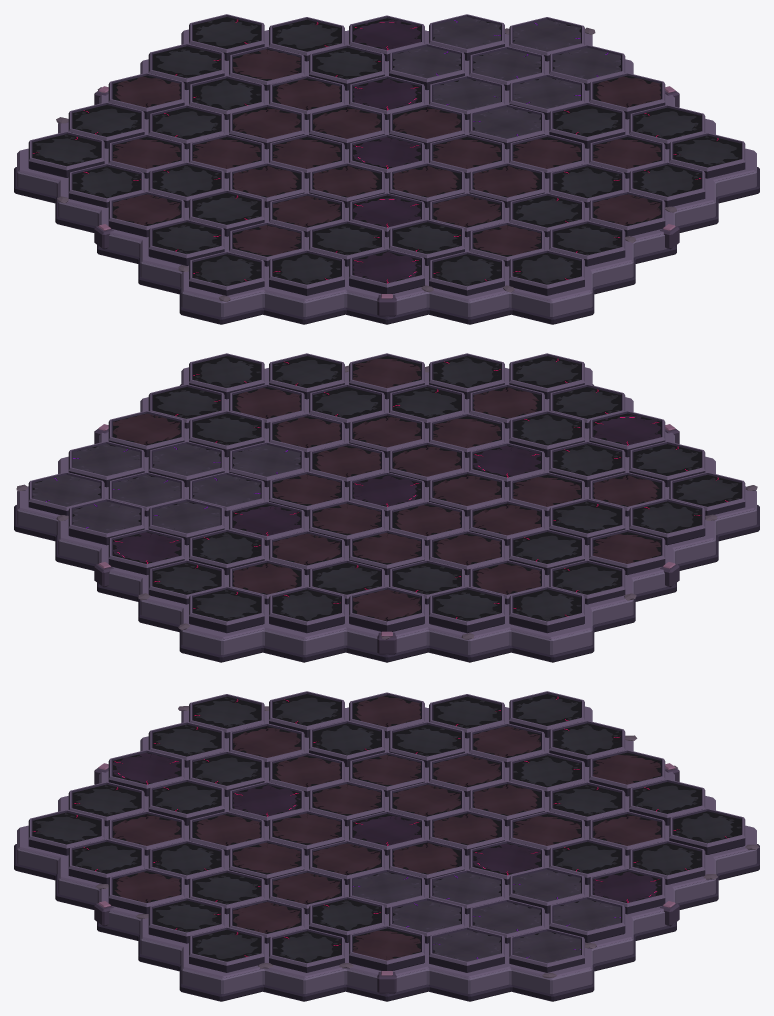
Rendered from Arena_Tabuleiro.glb.
3 views of the same model, one above another, from view 1: azimuth 30°, elevation 25°; view 2: azimuth 150°, elevation 25°; view 3: azimuth 270°, elevation 25° (orthographic).
Visible parts, largest first — view 1: Arena_Foundation, Hex_q-2_r-2, Hex_q-3_r-1, Hex_q+0_r-4, Hex_q-4_r+4, Hex_q-4_r+1, Hex_q-1_r-3, Hex_q-4_r+0, Hex_q+1_r-4, Hex_q+4_r-4, Hex_q+3_r-4, Hex_q+2_r-4 (+51 smaller); view 2: Arena_Foundation, Hex_q-3_r+4, Hex_q-1_r+4, Hex_q-4_r+4, Hex_q+0_r+4, Hex_q-2_r+4, Hex_q-4_r+1, Hex_q+3_r+1, Hex_q-4_r+2, Hex_q+2_r+2, Hex_q-1_r-2, Hex_q-2_r-1 (+51 smaller); view 3: Arena_Foundation, Hex_q+4_r-2, Hex_q+4_r-1, Hex_q+4_r-4, Hex_q+0_r+4, Hex_q+3_r+1, Hex_q+4_r+0, Hex_q+4_r-3, Hex_q+0_r-4, Hex_q+3_r-4, Hex_q+1_r-4, Hex_q+2_r-4 (+51 smaller).
Boxes of the visible parts, box(x1,y1,x2,y2) form: Arena_Foundation: box(14, 29, 759, 324); Hex_q-2_r-2: box(349, 248, 424, 293); Hex_q-3_r-1: box(269, 250, 344, 295); Hex_q+0_r-4: box(509, 250, 584, 295); Hex_q-4_r+4: box(28, 131, 104, 177); Hex_q-4_r+1: box(148, 219, 224, 265); Hex_q-1_r-3: box(429, 251, 504, 295); Hex_q-4_r+0: box(189, 251, 264, 295); Hex_q+1_r-4: box(549, 220, 625, 266); Hex_q+4_r-4: box(669, 132, 745, 178); Hex_q+3_r-4: box(629, 162, 705, 207); Hex_q+2_r-4: box(589, 191, 665, 236); Arena_Foundation: box(14, 367, 759, 662); Hex_q-3_r+4: box(429, 586, 504, 633); Hex_q-1_r+4: box(269, 586, 344, 633); Hex_q-4_r+4: box(509, 586, 584, 633); Hex_q+0_r+4: box(189, 586, 264, 633); Hex_q-2_r+4: box(349, 586, 424, 631); Hex_q-4_r+1: box(629, 498, 705, 545); Hex_q+3_r+1: box(68, 498, 144, 545); Hex_q-4_r+2: box(589, 529, 665, 575); Hex_q+2_r+2: box(108, 529, 184, 575); Hex_q-1_r-2: box(509, 410, 584, 457); Hex_q-2_r-1: box(549, 441, 625, 487); Arena_Foundation: box(14, 706, 759, 1001); Hex_q+4_r-2: box(349, 925, 424, 970); Hex_q+4_r-1: box(429, 927, 504, 972); Hex_q+4_r-4: box(189, 927, 264, 972); Hex_q+0_r+4: box(669, 808, 745, 854); Hex_q+3_r+1: box(549, 896, 625, 942); Hex_q+4_r+0: box(509, 928, 584, 972); Hex_q+4_r-3: box(269, 928, 344, 972); Hex_q+0_r-4: box(28, 809, 104, 855); Hex_q+3_r-4: box(148, 897, 224, 943); Hex_q+1_r-4: box(68, 839, 144, 884); Hex_q+2_r-4: box(108, 868, 184, 913).
Size of the model in its own units: 14.45 by 0.85 by 16.13.
7 materials, 1 textured.
